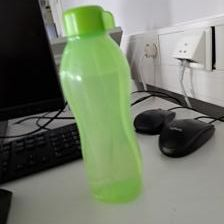bottle: (57, 5, 145, 205)
